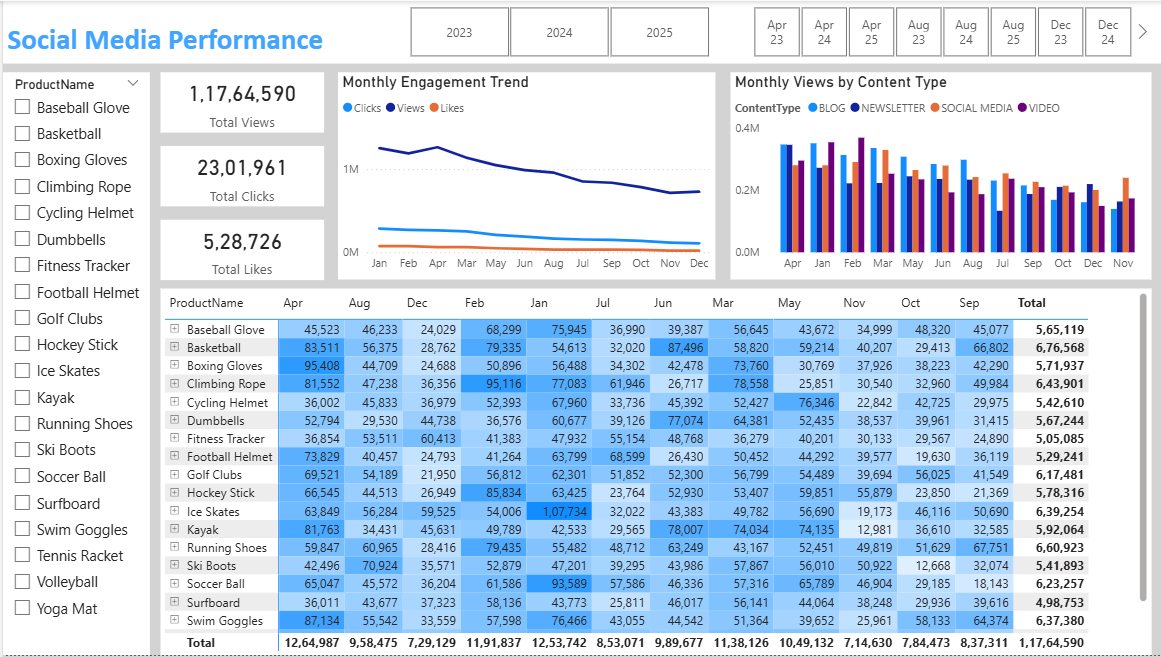

What the dashboard file says about the page in this screenshot:
{"tool":"powerbi","page":{"name":"Social Media Details","canvas":[1280,720],"ordinal":2},"visuals":[{"type":"textbox","box":[0,0,1280.3,68.6],"z":0},{"type":"slicer","fields":{"Values":["dim_products.ProductName"]},"box":[0,78.2,161.9,642.2],"z":1000},{"type":"card","fields":{"Values":["select","Calculations.Clicks"]},"box":[173.3,159.5,180.1,66],"z":2000},{"type":"card","fields":{"Values":["select","Calculations.Views"]},"box":[173.3,78.4,180.1,66],"z":3000},{"type":"card","fields":{"Values":["select","Calculations.Likes"]},"box":[173.3,240.7,180.1,66],"z":4000},{"type":"lineChart","title":"Monthly Engagement Trend","fields":{"Y":["Calculations.Clicks","Calculations.Views","Calculations.Likes"],"Category":["Calendar.MonthNameShort"]},"box":[368.5,78.4,415.3,228.3],"z":5000},{"type":"slicer","fields":{"Values":["Calendar.Year"]},"box":[422.1,0,378.3,67.8],"z":6000},{"type":"slicer","fields":{"Values":["Calendar.YearMonthShort"]},"box":[800.4,0,464.4,67.8],"z":7000},{"type":"clusteredColumnChart","title":"Monthly Views by Content Type","fields":{"Y":["Calculations.Views"],"Category":["Calendar.MonthNameShort"],"Series":["fact_engagement_data.ContentType"]},"box":[800.3,78.4,463.4,228.3],"z":8000},{"type":"pivotTable","fields":{"Rows":["dim_products.ProductName","fact_engagement_data.ContentType"],"Values":["Calculations.Views"],"Columns":["Calendar.MonthNameShort"]},"box":[173.3,316.3,1090.5,404.3],"z":9000}]}

Visuals, with their boxes in screenshot pixels (x1, y1, x2, y2), scaled from the page's 1280x720 canvas onto the 1161x657 screenshot:
textbox: [x1=0, y1=0, x2=1160, y2=63]
slicer - dim_products.ProductName: [x1=0, y1=71, x2=147, y2=656]
card - select x Calculations.Clicks: [x1=157, y1=146, x2=321, y2=206]
card - select x Calculations.Views: [x1=157, y1=72, x2=321, y2=132]
card - select x Calculations.Likes: [x1=157, y1=220, x2=321, y2=280]
"Monthly Engagement Trend" lineChart: [x1=334, y1=72, x2=711, y2=280]
slicer - Calendar.Year: [x1=383, y1=0, x2=726, y2=62]
slicer - Calendar.YearMonthShort: [x1=726, y1=0, x2=1147, y2=62]
"Monthly Views by Content Type" clusteredColumnChart: [x1=726, y1=72, x2=1146, y2=280]
pivotTable - dim_products.ProductName x fact_engagement_data.ContentType: [x1=157, y1=289, x2=1146, y2=656]
